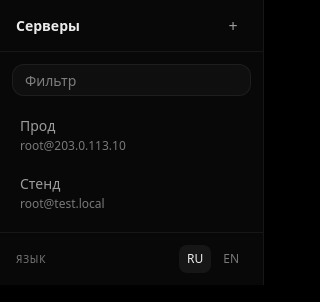
Test: поиск › ищет по метке
Type "стенд" into the field labelled "Фильтр".
click(132, 80); type("стенд")  # box [12,64,251,96]
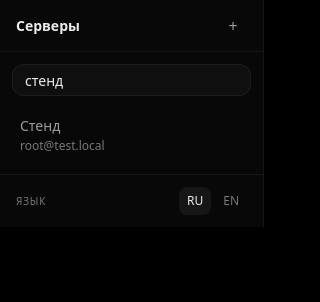
Expected: the text "Стенд" is shown, [20,116,60,135]
Result: the button "Прод" is gone
